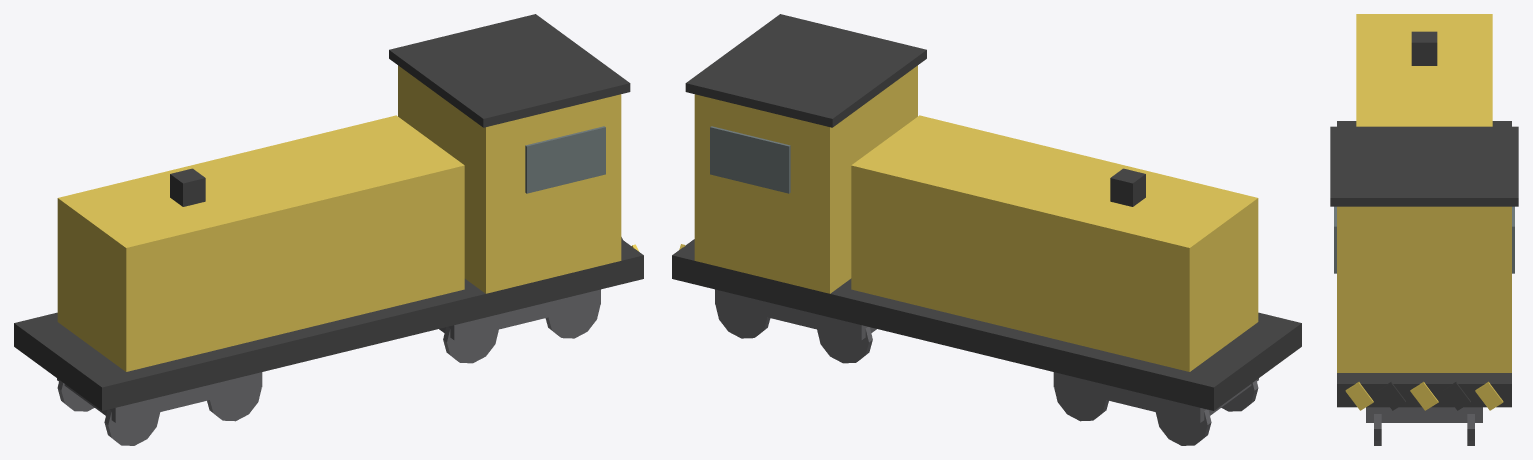
File: Locomotive.glb
The picture shows the model from 3 angles, left to right: view 1: azimuth 30°, elevation 25°; view 2: azimuth 150°, elevation 25°; view 3: azimuth 270°, elevation 25°; orthographic projection.
Parts seen in each view (by area): view 1: Long hood, Cab.001, Frame, Cab roof, Cab window, Bogie frame.002, Bogie frame.003, Wheel.012, Wheel.008, Exhaust, Wheel.013, Wheel.009; view 2: Long hood, Cab.001, Frame, Cab roof, Cab window.001, Bogie frame.002, Bogie frame.003, Wheel.014, Wheel.010, Exhaust, Wheel.015, Wheel.011; view 3: Cab.001, Cab roof, Long hood, Frame, Bogie frame.003, Exhaust, Hazard stripe.002, Hazard stripe.004, Hazard stripe.001, Hazard stripe, Hazard stripe.003, Wheel.013 (+3 smaller).
Boxes of the visible parts, x1=… form: Long hood: x1=57, y1=115, x2=464, y2=371; Cab.001: x1=398, y1=65, x2=621, y2=293; Frame: x1=14, y1=239, x2=643, y2=410; Cab roof: x1=389, y1=14, x2=630, y2=127; Cab window: x1=525, y1=126, x2=605, y2=193; Bogie frame.002: x1=57, y1=372, x2=262, y2=422; Bogie frame.003: x1=439, y1=289, x2=600, y2=340; Wheel.012: x1=443, y1=327, x2=498, y2=363; Wheel.008: x1=104, y1=409, x2=160, y2=445; Exhaust: x1=170, y1=168, x2=205, y2=206; Wheel.013: x1=545, y1=305, x2=600, y2=338; Wheel.009: x1=207, y1=387, x2=261, y2=421; Long hood: x1=851, y1=115, x2=1258, y2=371; Cab.001: x1=694, y1=65, x2=917, y2=293; Frame: x1=672, y1=239, x2=1301, y2=410; Cab roof: x1=685, y1=14, x2=926, y2=127; Cab window.001: x1=710, y1=126, x2=790, y2=193; Bogie frame.002: x1=1053, y1=372, x2=1258, y2=422; Bogie frame.003: x1=715, y1=289, x2=876, y2=340; Wheel.014: x1=817, y1=327, x2=872, y2=363; Wheel.010: x1=1155, y1=409, x2=1211, y2=445; Exhaust: x1=1110, y1=168, x2=1145, y2=206; Wheel.015: x1=715, y1=305, x2=770, y2=338; Wheel.011: x1=1054, y1=387, x2=1108, y2=421; Cab.001: x1=1337, y1=206, x2=1511, y2=372; Cab roof: x1=1330, y1=126, x2=1518, y2=206; Long hood: x1=1356, y1=14, x2=1492, y2=126; Frame: x1=1337, y1=121, x2=1511, y2=407; Bogie frame.003: x1=1366, y1=407, x2=1482, y2=422; Exhaust: x1=1411, y1=31, x2=1437, y2=65; Hazard stripe.002: x1=1410, y1=381, x2=1438, y2=410; Hazard stripe.004: x1=1475, y1=381, x2=1503, y2=410; Hazard stripe.001: x1=1378, y1=381, x2=1405, y2=410; Hazard stripe: x1=1345, y1=382, x2=1373, y2=410; Hazard stripe.003: x1=1443, y1=382, x2=1470, y2=410; Wheel.013: x1=1374, y1=414, x2=1381, y2=445.
Bounding box in the file's own units: 9.65 × 4.46 × 2.9.
